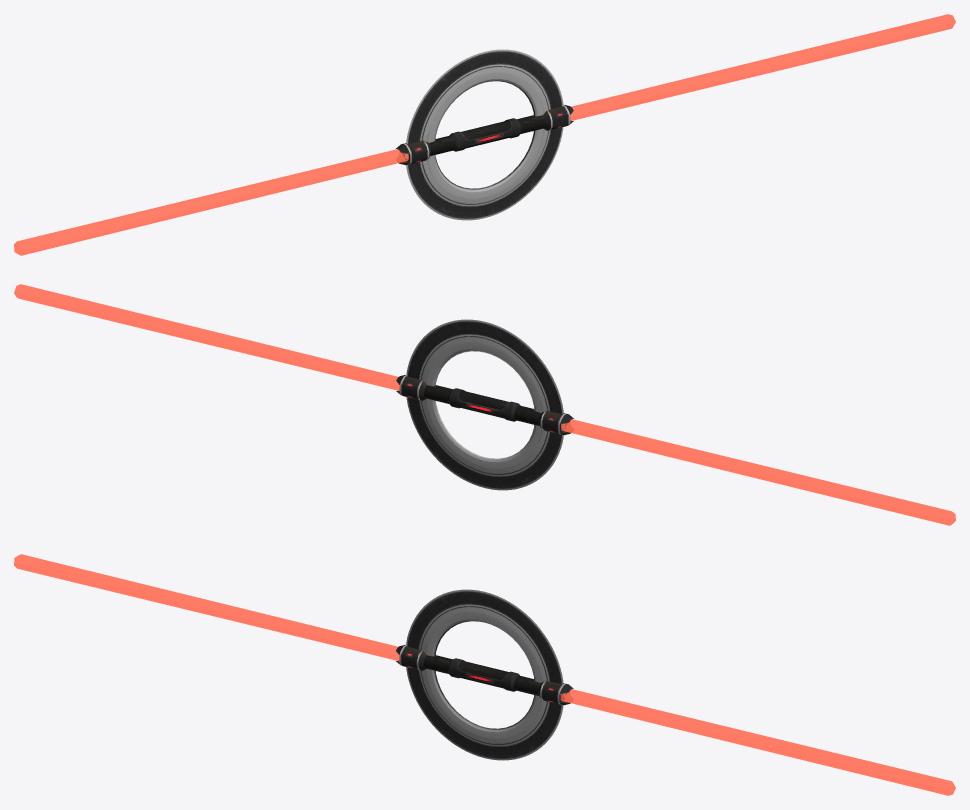
Rendered from star_wars_lightsaber.glb.
3 views of the same model, one above another, from view 1: azimuth 30°, elevation 25°; view 2: azimuth 150°, elevation 25°; view 3: azimuth 330°, elevation 25° (orthographic).
Visible parts, largest first — view 1: _low_Disk, _low_Laser_left, _low_Laser_right, _low_Handle, _low_Handle_middle; view 2: _low_Disk, _low_Laser_left, _low_Laser_right, _low_Handle, _low_Handle_middle; view 3: _low_Disk, _low_Laser_right, _low_Laser_left, _low_Handle, _low_Handle_middle.
Part boxes in pixels (bbox=[...]): _low_Disk: bbox=[406, 49, 563, 220]; _low_Laser_left: bbox=[14, 149, 408, 255]; _low_Laser_right: bbox=[570, 14, 955, 121]; _low_Handle: bbox=[396, 104, 573, 165]; _low_Handle_middle: bbox=[460, 120, 511, 148]; _low_Disk: bbox=[406, 319, 563, 490]; _low_Laser_left: bbox=[561, 419, 955, 525]; _low_Laser_right: bbox=[14, 284, 399, 390]; _low_Handle: bbox=[396, 374, 573, 435]; _low_Handle_middle: bbox=[458, 390, 509, 418]; _low_Disk: bbox=[406, 589, 563, 760]; _low_Laser_right: bbox=[560, 689, 955, 795]; _low_Laser_left: bbox=[14, 554, 399, 660]; _low_Handle: bbox=[396, 644, 573, 705]; _low_Handle_middle: bbox=[458, 660, 508, 688].
Size of the model in its own units: 125 by 21.16 by 2.49.
Materials: 2 (2 with a texture image).
